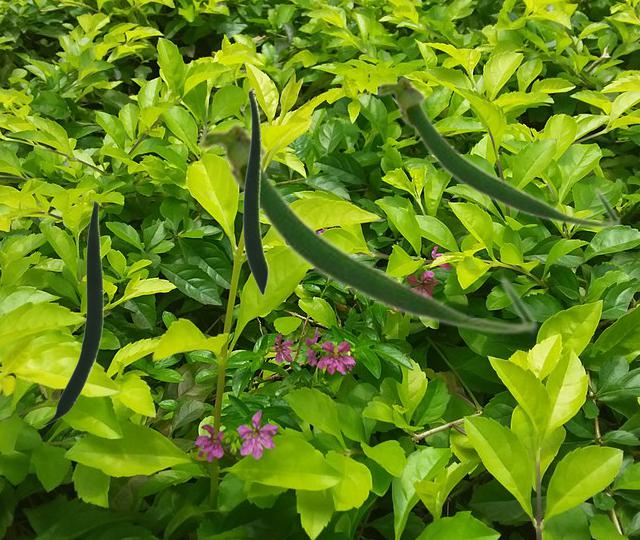french_bean: (195, 119, 538, 335), (374, 74, 621, 229), (41, 200, 102, 424), (242, 87, 268, 295)
